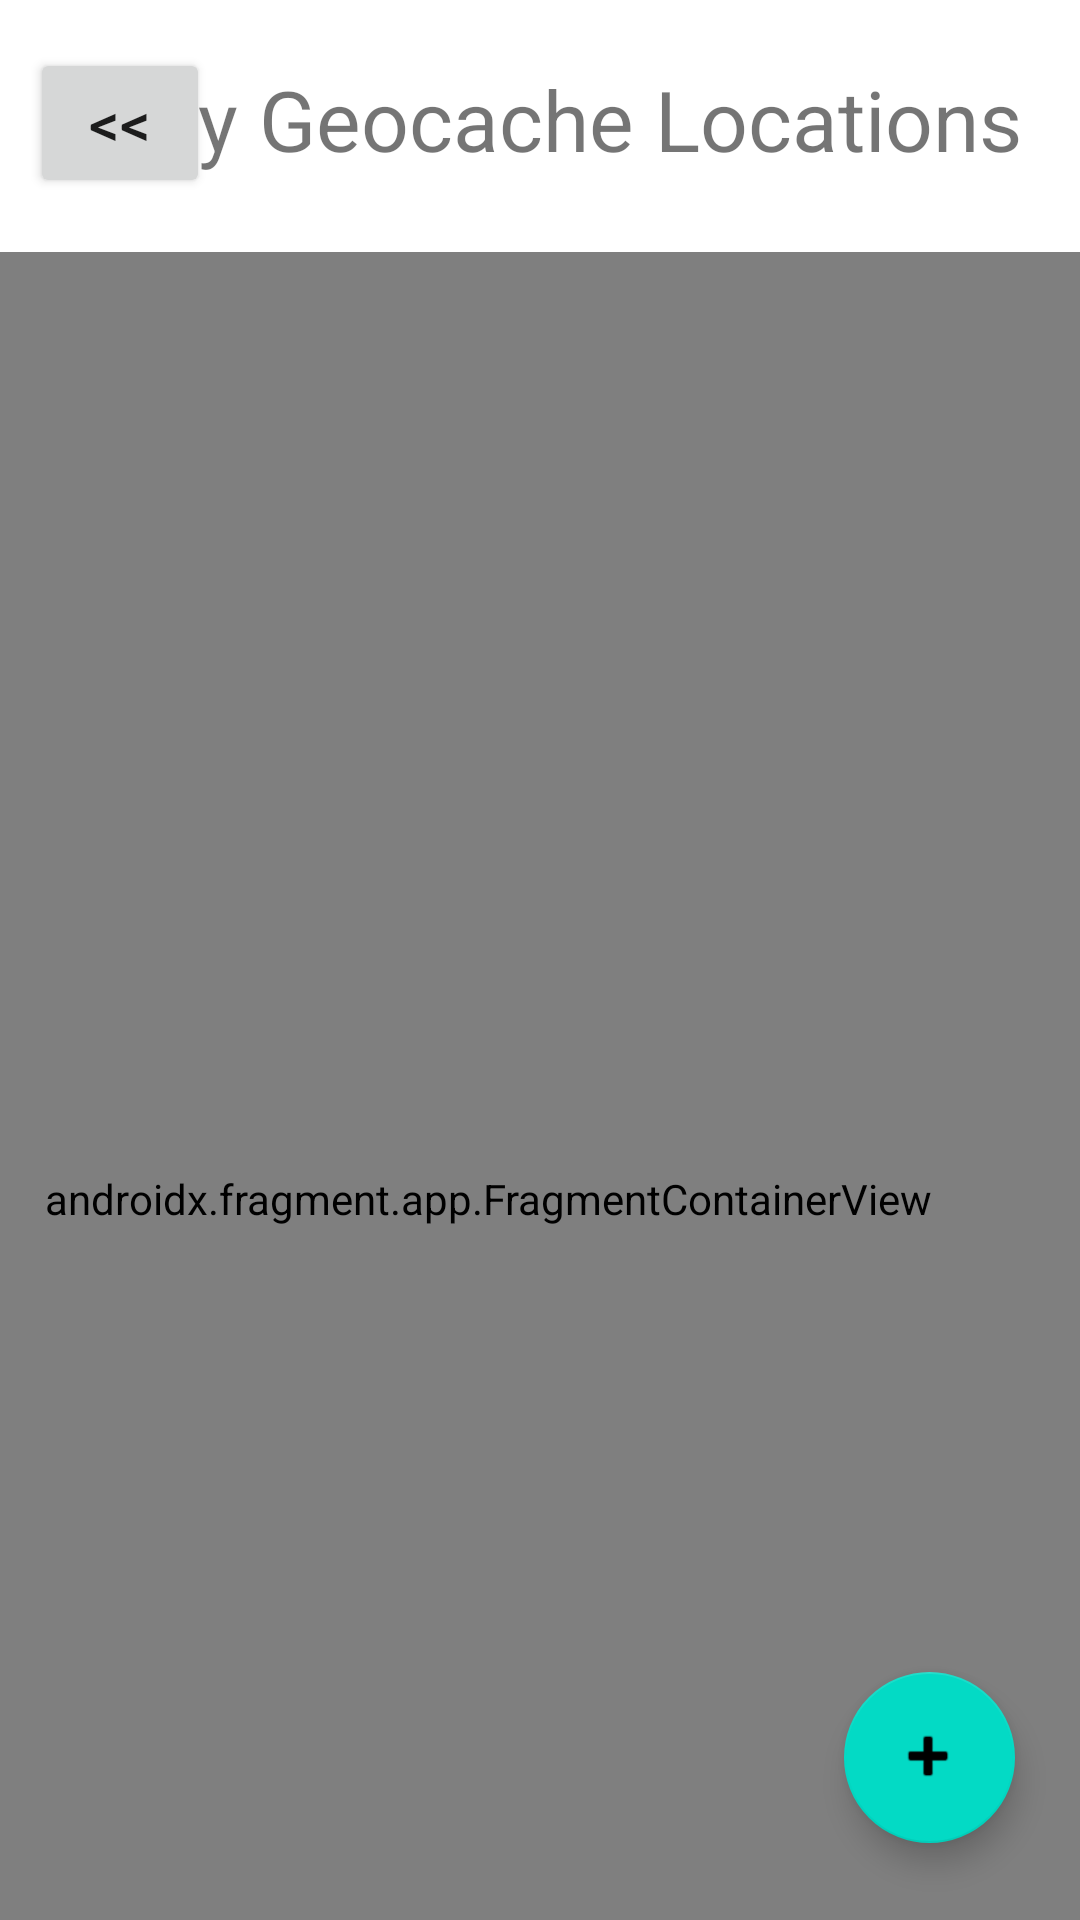

Where icons sit on this 1080x1920 app screen, as [x1, y1, x2, y2]:
add: [844, 1672, 1015, 1843]
